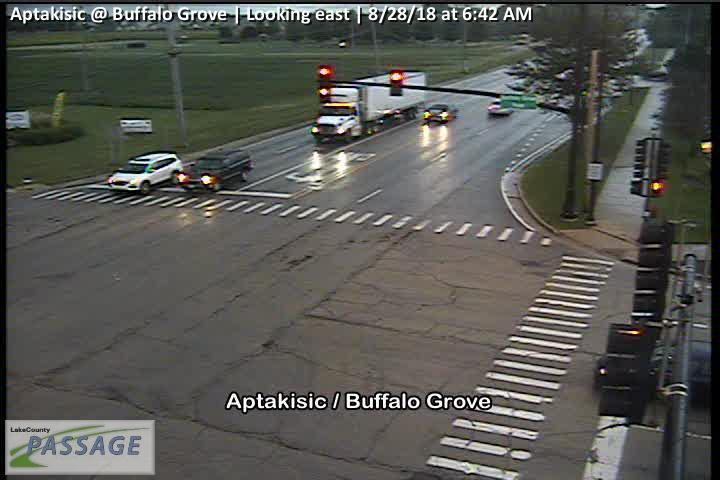SUV: (108, 152, 184, 196), (185, 148, 252, 192)
Sedan: (594, 338, 713, 401), (422, 104, 451, 124), (486, 98, 515, 114)
Truck: (311, 69, 425, 142)
